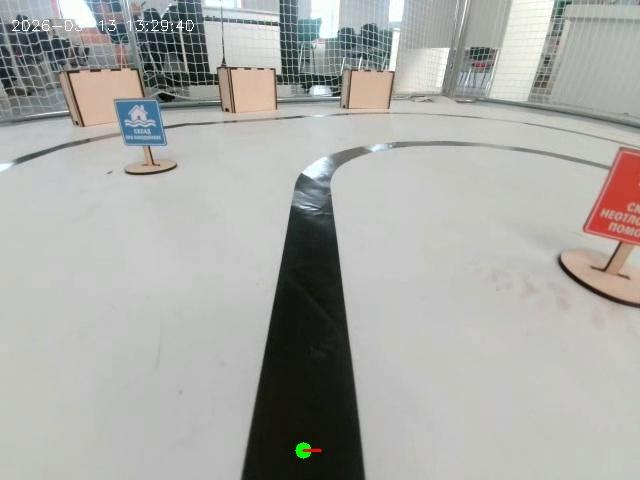flood: (112, 83, 170, 179)
